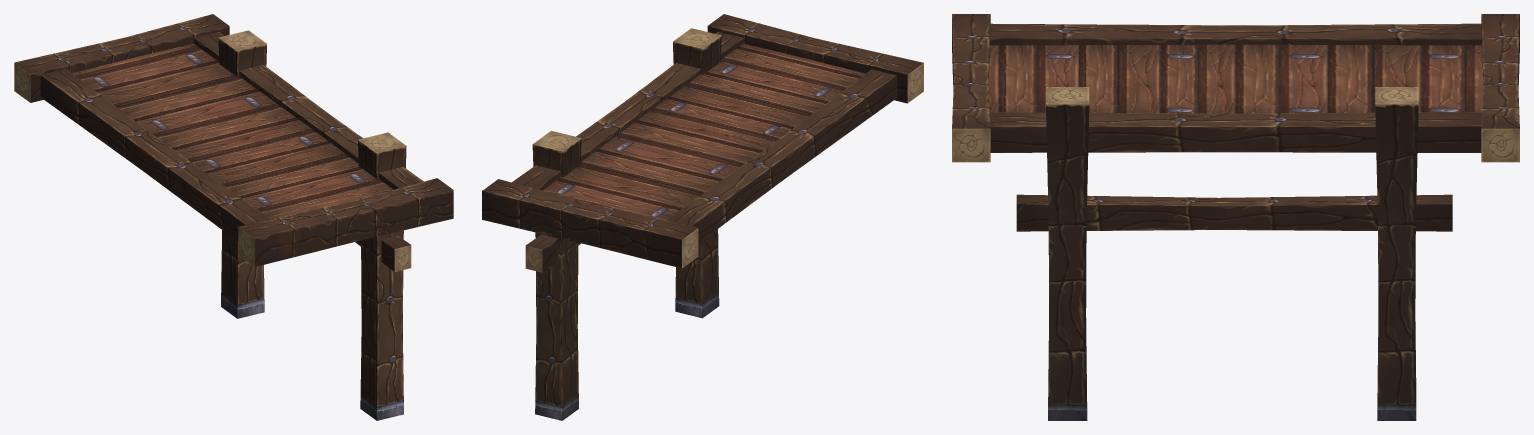
The model's file is wall_bridge_01.fbx.
3 renders of one model, left to right at view 1: azimuth 30°, elevation 25°; view 2: azimuth 150°, elevation 25°; view 3: azimuth 270°, elevation 25°, orthographic. The views are drawn at different scales.
Parts seen in each view (by area): view 1: wall_bridge_01; view 2: wall_bridge_01; view 3: wall_bridge_01.
Boxes of the visible parts, x1,y1,x2,y2 form: wall_bridge_01: [14, 14, 453, 420]; wall_bridge_01: [482, 14, 923, 420]; wall_bridge_01: [952, 14, 1519, 420].
Size of the model in its own units: 4.78 by 6.17 by 10.
